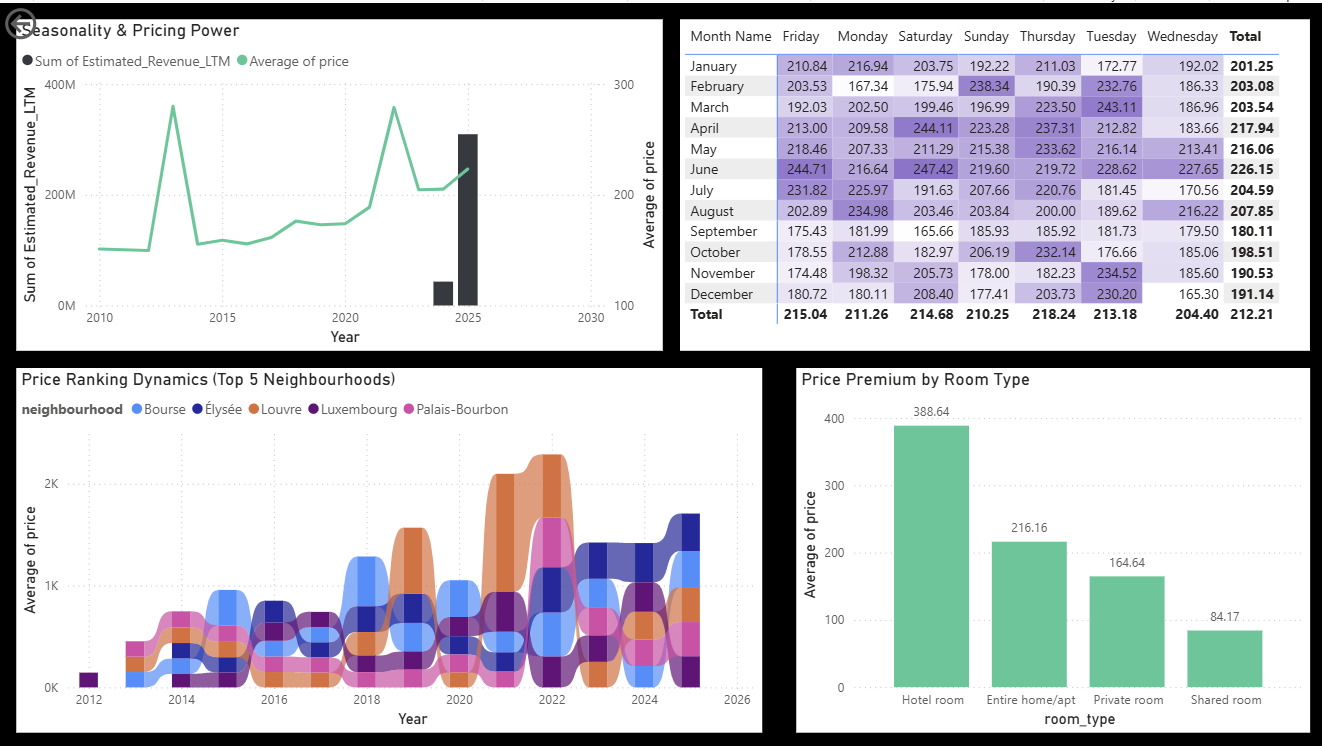

Layout of this report page (visuals, bound fields, positions):
{"tool":"powerbi","page":{"name":"pricing","canvas":[1280,720],"ordinal":2},"visuals":[{"type":"lineStackedColumnComboChart","title":"Seasonality & Pricing Power","fields":{"Category":["Paris_Cleaned_final_DS.date.Variation.Date Hierarchy.Year","Paris_Cleaned_final_DS.date.Variation.Date Hierarchy.Month"],"Y":["Sum(Paris_Cleaned_final_DS.Estimated_Revenue_LTM)"],"Y2":["Avg(Paris_Cleaned_final_DS.price)"]},"box":[16,16,624,320],"z":0},{"type":"pivotTable","fields":{"Rows":["Paris_Cleaned_final_DS.Month Name"],"Columns":["Paris_Cleaned_final_DS.Weekday Name"],"Values":["Avg(Paris_Cleaned_final_DS.price)"]},"box":[656,16,608,320],"z":1000},{"type":"clusteredColumnChart","title":"Price Premium by Room Type","fields":{"Category":["Paris_Cleaned_final_DS.room_type"],"Y":["Avg(Paris_Cleaned_final_DS.price)"]},"box":[768,352,496,352],"z":2000},{"type":"ribbonChart","title":"Price Ranking Dynamics (Top 5 Neighbourhoods)","fields":{"Category":["Paris_Cleaned_final_DS.date.Variation.Date Hierarchy.Year"],"Y":["Avg(Paris_Cleaned_final_DS.price)"],"Series":["Paris_Cleaned_final_DS.neighbourhood"]},"box":[16,352,720,352],"z":3000},{"type":"actionButton","box":[0,0,100,40],"z":3001}]}

Visuals, with their boxes in screenshot pixels (x1, y1, x2, y2), scaled from the page's 1280x720 canvas onto the 1322x746 screenshot:
"Seasonality & Pricing Power" lineStackedColumnComboChart: bbox=[17, 17, 661, 348]
pivotTable - Paris_Cleaned_final_DS.Month Name x Paris_Cleaned_final_DS.Weekday Name: bbox=[678, 17, 1305, 348]
"Price Premium by Room Type" clusteredColumnChart: bbox=[793, 365, 1305, 729]
"Price Ranking Dynamics (Top 5 Neighbourhoods)" ribbonChart: bbox=[17, 365, 760, 729]
actionButton: bbox=[0, 0, 103, 41]
